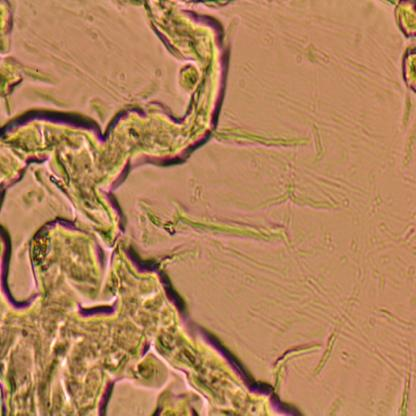Normal: (0, 0, 185, 416)
